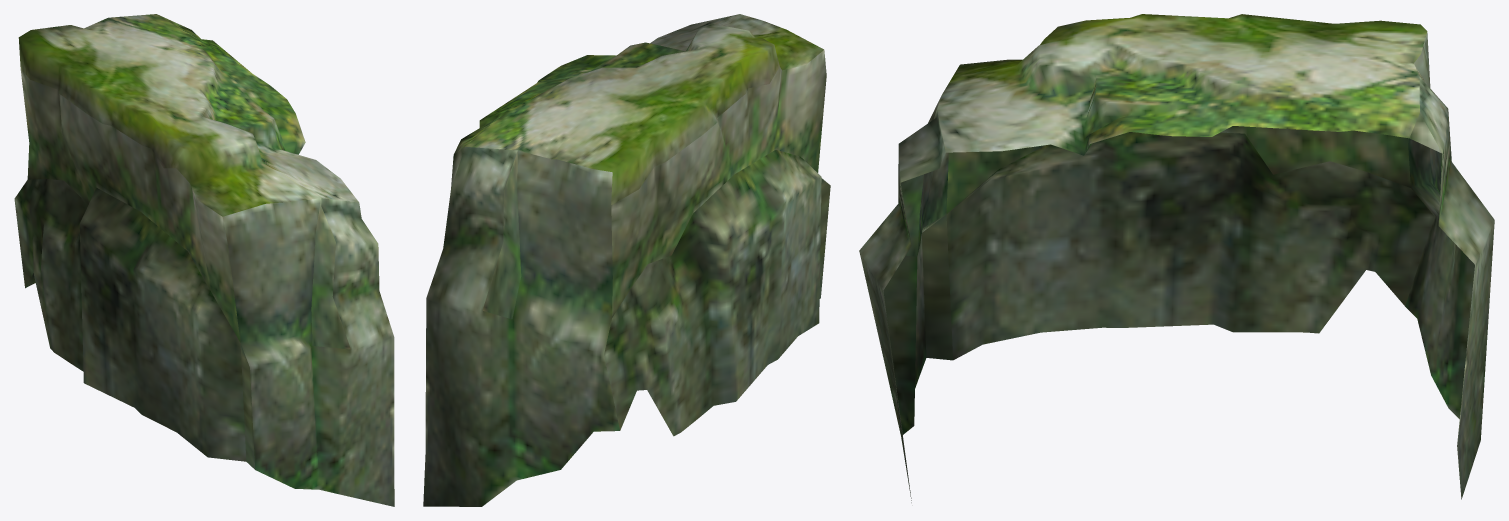
File: S_Rock_Green048_1060_7.fbx
3 renders of one model, left to right at view 1: azimuth 30°, elevation 25°; view 2: azimuth 150°, elevation 25°; view 3: azimuth 270°, elevation 25°, orthographic. The views are drawn at different scales.
Visible parts, largest first — view 1: S_Rock_Green048_1060_7; view 2: S_Rock_Green048_1060_7; view 3: S_Rock_Green048_1060_7.
Part boxes in pixels (box(x1,y1,x2,y2)): S_Rock_Green048_1060_7: box(14, 14, 394, 506); S_Rock_Green048_1060_7: box(423, 14, 830, 506); S_Rock_Green048_1060_7: box(859, 14, 1494, 502).
Size of the model in its own units: 730 by 1342 by 1894.
1 material, 1 textured.
